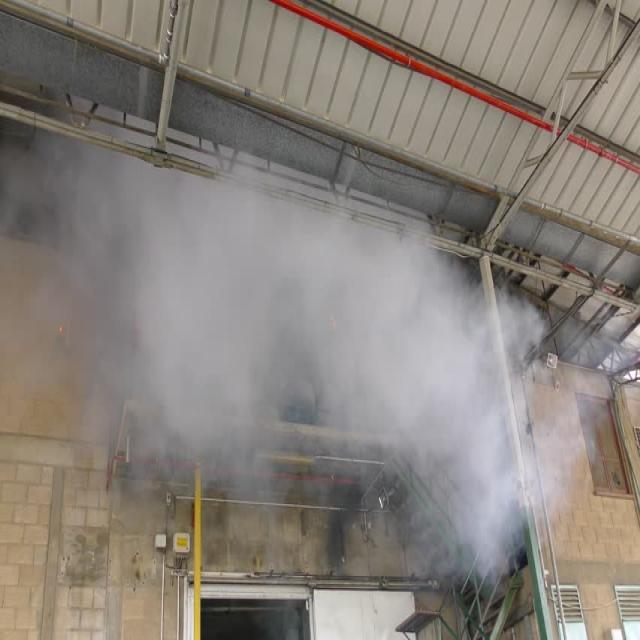Smoke: (0, 127, 613, 592)
